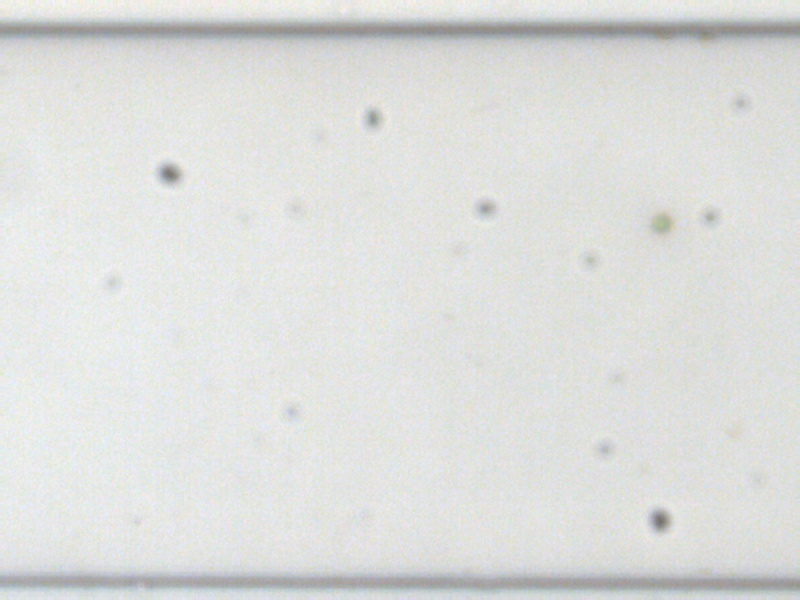Chlorella: (651, 212, 671, 232)
